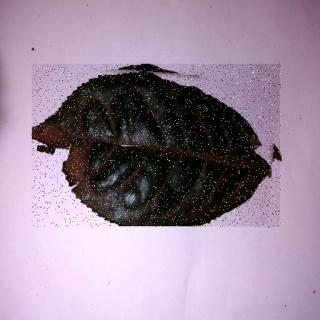Anthracnose: (34, 65, 283, 229)
